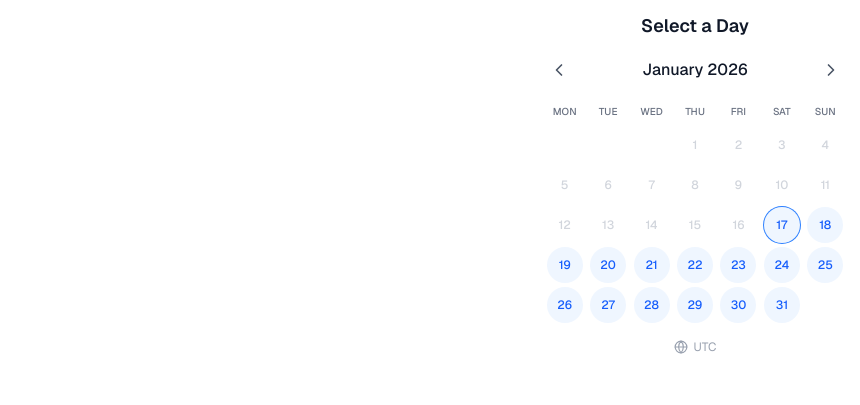
Test case: BookingForm › Time Selection (Step 2) › should show loading state while fetching slots
The image size is (860, 405).
Click the button "31" at (782,305), box x1=764 y1=287 x2=800 y2=323
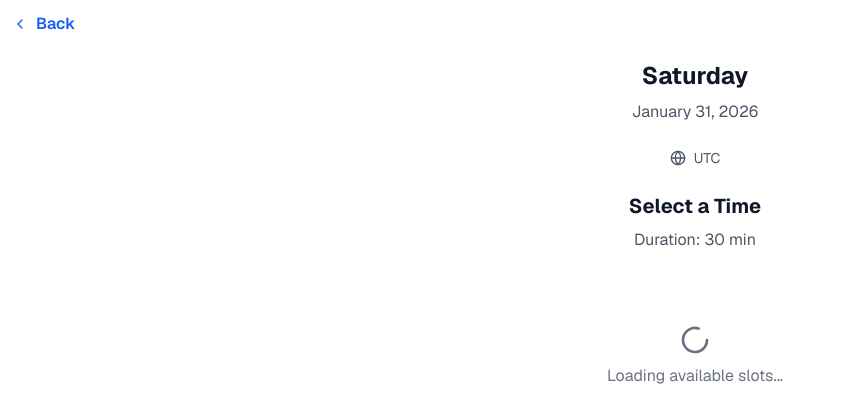
Check: the text "Loading available slots..." is shown, box x1=607 y1=364 x2=783 y2=388
